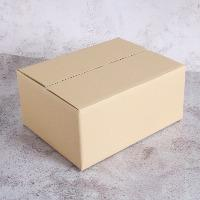undamaged: (12, 31, 189, 177)
